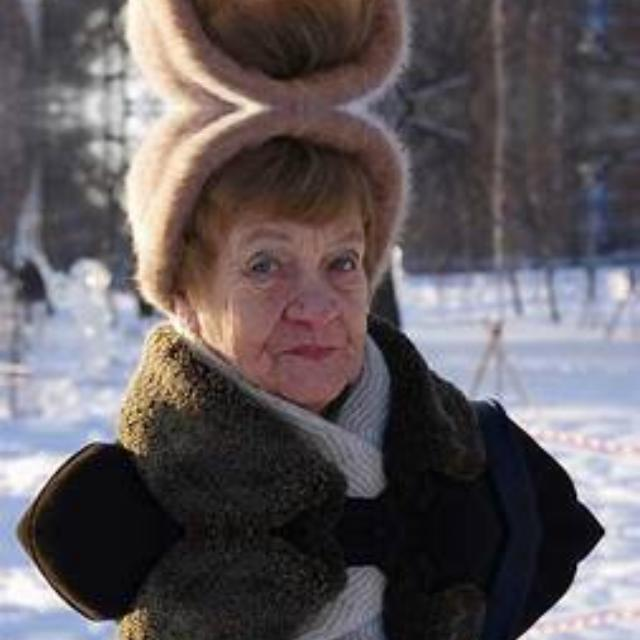person: (85, 107, 532, 495), (85, 0, 532, 107), (85, 569, 532, 640)
